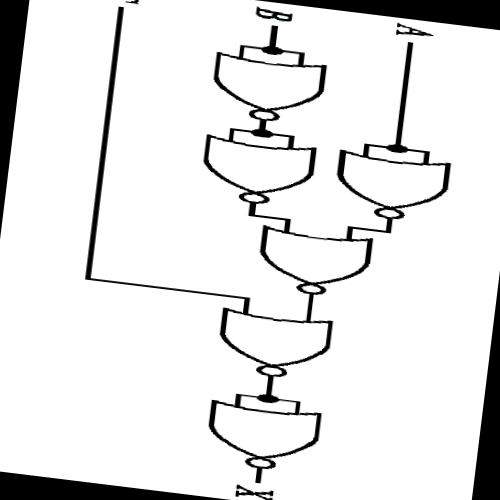nor: (192, 395, 334, 479), (196, 44, 334, 129), (189, 128, 325, 214), (324, 144, 458, 228), (207, 302, 340, 386), (246, 221, 382, 303)
